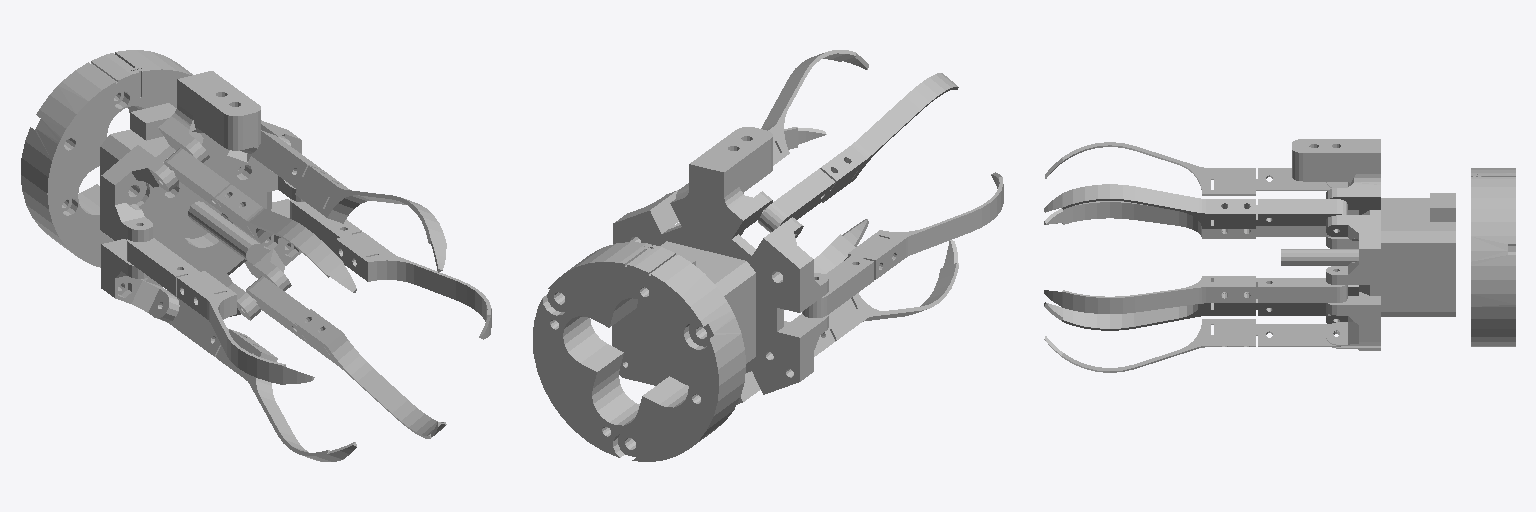
robot.urdf — gripper:
<?xml version="1.0" ?>
<!-- =================================================================================== -->
<!-- |    This document was autogenerated by xacro from six_fingered_gripper.urdf.xacro | -->
<!-- |    EDITING THIS FILE BY HAND IS NOT RECOMMENDED                                 | -->
<!-- =================================================================================== -->
<!-- This URDF was automatically created by SolidWorks to URDF Exporter! Originally created by [author] ([email redacted]) 
     Commit Version: 1.6.0-4-g7f85cfe  Build Version: 1.6.7995.38578
     For more information, please see http://wiki.ros.org/sw_urdf_exporter -->
<robot name="gripper">
  <link name="base_gripper">
    <inertial>
      <origin rpy="0 0 0" xyz="1.10509452800074E-06 0.00208243198225818 0.0400984076446437"/>
      <mass value="0.185199260372416"/>
      <inertia ixx="9.76222430788153E-05" ixy="-7.8112390093605E-09" ixz="6.20208431775755E-12" iyy="8.20988447730316E-05" iyz="-3.40692325998543E-06" izz="0.000149625833719171"/>
    </inertial>
    <visual>
      <origin rpy="0 0 0" xyz="0 0 0"/>
      <geometry>
        <mesh filename="package://motoman_description/meshes/grippers/six_fingered_gripper/base_gripper.STL"/>
      </geometry>
      <material name="">
        <color rgba="0.752941176470588 0.752941176470588 0.752941176470588 1"/>
      </material>
    </visual>
    <!-- xyz="${0.0392698743200124} ${0.0120111889614487-0.095} ${0.0400984080168193-0.03}" /> -->
    <collision>
      <origin rpy="1.570796327 0 0" xyz="0 -0.10625 0"/>
      <geometry>
        <cylinder length="0.2125" radius="0.055"/>
      </geometry>
    </collision>
    <!-- <collision>
      <origin
        xyz="0 0 0"
        rpy="0 0 0" />
      <geometry>
        <mesh
          filename="package://motoman_description/meshes/grippers/six_fingered_gripper/base_gripper.STL" />
      </geometry>
    </collision> -->
  </link>
  <link name="gripper_finger_1">
    <inertial>
      <origin rpy="0 0 0" xyz="-0.0012619 0.038986 -2.3657E-12"/>
      <mass value="0.006157"/>
      <inertia ixx="2.4192E-06" ixy="2.4793E-07" ixz="2.8628E-15" iyy="1.6776E-07" iyz="1.1444E-15" izz="2.5199E-06"/>
    </inertial>
    <visual>
      <origin rpy="0 0 0" xyz="0 0 0"/>
      <geometry>
        <mesh filename="package://motoman_description/meshes/grippers/six_fingered_gripper/gripper_finger_1.STL"/>
      </geometry>
      <material name="">
        <color rgba="0.75294 0.75294 0.75294 1"/>
      </material>
    </visual>
    <!-- <collision>
      <origin
        xyz="0 0 0"
        rpy="0 0 0" />
      <geometry>
        <mesh
          filename="package://motoman_description/meshes/grippers/six_fingered_gripper/gripper_finger_1.STL" />
      </geometry>
    </collision> -->
  </link>
  <joint name="finger_joint_1" type="fixed">
    <origin rpy="0 1.0472 -3.1416" xyz="0.0175 -0.08 0.030311"/>
    <parent link="base_gripper"/>
    <child link="gripper_finger_1"/>
    <axis xyz="0 0 1"/>
    <!-- <limit
      lower="${lower_joint_limit}"
      upper="${upper_joint_limit}"
      effort="0"
      velocity="0" /> -->
  </joint>
  <link name="gripper_finger_2">
    <inertial>
      <origin rpy="0 0 0" xyz="-0.0012619 0.038986 -2.3657E-12"/>
      <mass value="0.006157"/>
      <inertia ixx="2.4192E-06" ixy="2.4793E-07" ixz="2.8628E-15" iyy="1.6776E-07" iyz="1.1444E-15" izz="2.5199E-06"/>
    </inertial>
    <visual>
      <origin rpy="0 0 0" xyz="0 0 0"/>
      <geometry>
        <mesh filename="package://motoman_description/meshes/grippers/six_fingered_gripper/gripper_finger_2.STL"/>
      </geometry>
      <material name="">
        <color rgba="0.75294 0.75294 0.75294 1"/>
      </material>
    </visual>
    <!-- <collision>
      <origin
        xyz="0 0 0"
        rpy="0 0 0" />
      <geometry>
        <mesh
          filename="package://motoman_description/meshes/grippers/six_fingered_gripper/gripper_finger_2.STL" />
      </geometry>
    </collision> -->
  </link>
  <joint name="finger_joint_2" type="fixed">
    <origin rpy="0 0 3.1416" xyz="0.035 -0.08 0"/>
    <parent link="base_gripper"/>
    <child link="gripper_finger_2"/>
    <axis xyz="0 0 1"/>
    <!-- <limit
      lower="${lower_joint_limit}"
      upper="${upper_joint_limit}"
      effort="0"
      velocity="0" /> -->
  </joint>
  <link name="gripper_finger_3">
    <inertial>
      <origin rpy="0 0 0" xyz="-0.0012619 0.038986 -2.3657E-12"/>
      <mass value="0.006157"/>
      <inertia ixx="2.4192E-06" ixy="2.4793E-07" ixz="2.8628E-15" iyy="1.6776E-07" iyz="1.1444E-15" izz="2.5199E-06"/>
    </inertial>
    <visual>
      <origin rpy="0 0 0" xyz="0 0 0"/>
      <geometry>
        <mesh filename="package://motoman_description/meshes/grippers/six_fingered_gripper/gripper_finger_3.STL"/>
      </geometry>
      <material name="">
        <color rgba="0.75294 0.75294 0.75294 1"/>
      </material>
    </visual>
    <!-- <collision>
      <origin
        xyz="0 0 0"
        rpy="0 0 0" />
      <geometry>
        <mesh
          filename="package://motoman_description/meshes/grippers/six_fingered_gripper/gripper_finger_3.STL" />
      </geometry>
    </collision> -->
  </link>
  <joint name="finger_joint_3" type="fixed">
    <origin rpy="0 -1.0472 3.1416" xyz="0.0175 -0.08 -0.030311"/>
    <parent link="base_gripper"/>
    <child link="gripper_finger_3"/>
    <axis xyz="0 0 1"/>
    <!-- <limit
      lower="${lower_joint_limit}"
      upper="${upper_joint_limit}"
      effort="0"
      velocity="0" /> -->
  </joint>
  <link name="gripper_finger_4">
    <inertial>
      <origin rpy="0 0 0" xyz="-0.00126191047827026 0.0389862430346049 -2.36565281253043E-12"/>
      <mass value="0.00615698496047359"/>
      <inertia ixx="2.41915556010585E-06" ixy="2.47931048420401E-07" ixz="2.86284769490924E-15" iyy="1.67755649991034E-07" iyz="1.14444598796065E-15" izz="2.51994852952969E-06"/>
    </inertial>
    <visual>
      <origin rpy="0 0 0" xyz="0 0 0"/>
      <geometry>
        <mesh filename="package://motoman_description/meshes/grippers/six_fingered_gripper/gripper_finger_4.STL"/>
      </geometry>
      <material name="">
        <color rgba="0.752941176470588 0.752941176470588 0.752941176470588 1"/>
      </material>
    </visual>
    <!-- <collision>
      <origin
        xyz="0 0 0"
        rpy="0 0 0" />
      <geometry>
        <mesh
          filename="package://motoman_description/meshes/grippers/six_fingered_gripper/gripper_finger_4.STL" />
      </geometry>
    </collision> -->
  </link>
  <joint name="finger_joint_4" type="fixed">
    <origin rpy="3.1416 -1.0472 0" xyz="-0.0175 -0.08 -0.030311"/>
    <parent link="base_gripper"/>
    <child link="gripper_finger_4"/>
    <axis xyz="0 0 1"/>
    <!-- <limit
      lower="${lower_joint_limit}"
      upper="${upper_joint_limit}"
      effort="0"
      velocity="0" /> -->
  </joint>
  <link name="gripper_finger_5">
    <inertial>
      <origin rpy="0 0 0" xyz="-0.0012619 0.038986 -2.3657E-12"/>
      <mass value="0.006157"/>
      <inertia ixx="2.4192E-06" ixy="2.4793E-07" ixz="2.8628E-15" iyy="1.6776E-07" iyz="1.1444E-15" izz="2.5199E-06"/>
    </inertial>
    <visual>
      <origin rpy="0 0 0" xyz="0 0 0"/>
      <geometry>
        <mesh filename="package://motoman_description/meshes/grippers/six_fingered_gripper/gripper_finger_5.STL"/>
      </geometry>
      <material name="">
        <color rgba="0.75294 0.75294 0.75294 1"/>
      </material>
    </visual>
    <!-- <collision>
      <origin
        xyz="0 0 0"
        rpy="0 0 0" />
      <geometry>
        <mesh
          filename="package://motoman_description/meshes/grippers/six_fingered_gripper/gripper_finger_5.STL" />
      </geometry>
    </collision> -->
  </link>
  <joint name="finger_joint_5" type="fixed">
    <origin rpy="3.1416 0 0" xyz="-0.035 -0.08 0"/>
    <parent link="base_gripper"/>
    <child link="gripper_finger_5"/>
    <axis xyz="0 0 1"/>
    <!-- <limit
      lower="${lower_joint_limit}"
      upper="${upper_joint_limit}"
      effort="0"
      velocity="0" /> -->
  </joint>
  <link name="gripper_finger_6">
    <inertial>
      <origin rpy="0 0 0" xyz="-0.0012619 0.038986 -2.3657E-12"/>
      <mass value="0.006157"/>
      <inertia ixx="2.4192E-06" ixy="2.4793E-07" ixz="2.8628E-15" iyy="1.6776E-07" iyz="1.1444E-15" izz="2.5199E-06"/>
    </inertial>
    <visual>
      <origin rpy="0 0 0" xyz="0 0 0"/>
      <geometry>
        <mesh filename="package://motoman_description/meshes/grippers/six_fingered_gripper/gripper_finger_6.STL"/>
      </geometry>
      <material name="">
        <color rgba="0.75294 0.75294 0.75294 1"/>
      </material>
    </visual>
    <!-- <collision>
      <origin
        xyz="0 0 0"
        rpy="0 0 0" />
      <geometry>
        <mesh
          filename="package://motoman_description/meshes/grippers/six_fingered_gripper/gripper_finger_6.STL" />
      </geometry>
    </collision> -->
  </link>
  <joint name="finger_joint_6" type="fixed">
    <origin rpy="3.1416 1.0472 0" xyz="-0.0175 -0.08 0.030311"/>
    <parent link="base_gripper"/>
    <child link="gripper_finger_6"/>
    <axis xyz="0 0 1"/>
    <!-- <limit
      lower="${lower_joint_limit}"
      upper="${upper_joint_limit}"
      effort="0"
      velocity="0" /> -->
  </joint>
</robot>

--- Facts derived from the render (not from the file) ---
Views: 3 orthographic renders of the robot side by side, from view 1: azimuth 30°, elevation 25°; view 2: azimuth 150°, elevation 25°; view 3: azimuth 270°, elevation 25°.
Robot: gripper — 7 links, 6 joints (6 fixed); root link base_gripper; default pose: all joints at 0.
Visible links, largest first — view 1: base_gripper, gripper_finger_5, gripper_finger_3, gripper_finger_2, gripper_finger_6, gripper_finger_1, gripper_finger_4; view 2: base_gripper, gripper_finger_5, gripper_finger_6, gripper_finger_4, gripper_finger_1, gripper_finger_3, gripper_finger_2; view 3: base_gripper, gripper_finger_1, gripper_finger_2, gripper_finger_3, gripper_finger_4, gripper_finger_5, gripper_finger_6.
Link boxes in pixels (x1,y1,x2,y2): base_gripper: (21, 50, 304, 321); gripper_finger_5: (127, 238, 314, 384); gripper_finger_3: (246, 276, 446, 438); gripper_finger_2: (290, 199, 491, 339); gripper_finger_6: (164, 148, 356, 292); gripper_finger_1: (249, 130, 446, 272); gripper_finger_4: (167, 298, 356, 461); base_gripper: (533, 127, 828, 461); gripper_finger_5: (802, 172, 1003, 317); gripper_finger_6: (758, 73, 958, 232); gripper_finger_4: (814, 240, 958, 356); gripper_finger_1: (676, 50, 868, 197); gripper_finger_3: (814, 219, 868, 273); gripper_finger_2: (676, 127, 826, 225); base_gripper: (1281, 139, 1515, 350); gripper_finger_1: (1044, 184, 1347, 228); gripper_finger_2: (1044, 276, 1347, 313); gripper_finger_3: (1044, 319, 1340, 372); gripper_finger_4: (1044, 299, 1325, 330); gripper_finger_5: (1044, 201, 1330, 238); gripper_finger_6: (1045, 142, 1331, 195).
Size in the robot's own frame: 0.103 by 0.2106 by 0.1016 metres.
7 mesh visuals loaded from 7 distinct referenced files (7 binary STL).